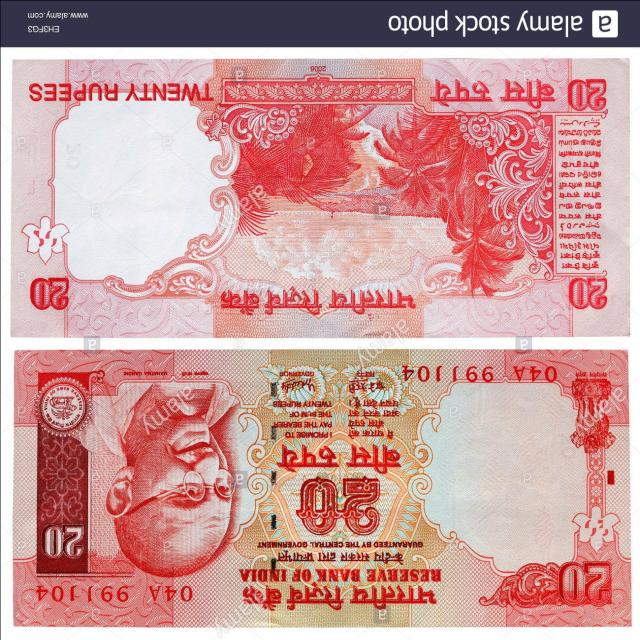20IndianRupees: (11, 62, 629, 340)
